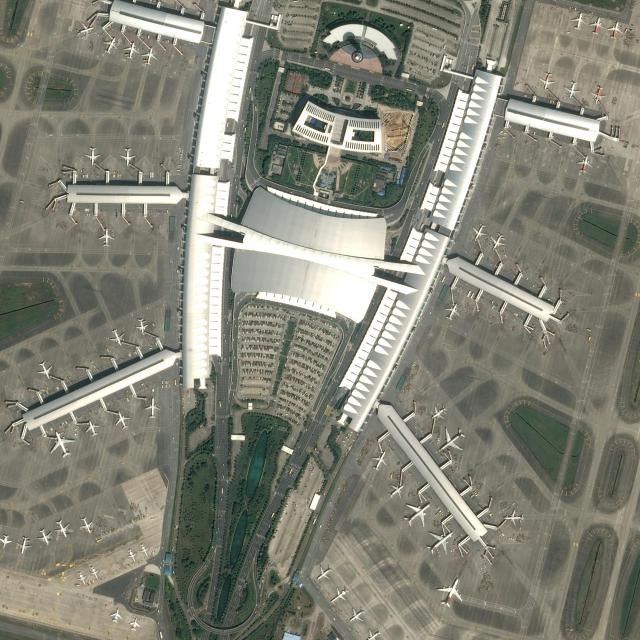1: (365, 628, 382, 640)
aircraft: (436, 576, 463, 608), (438, 427, 466, 453), (49, 430, 75, 458), (426, 530, 454, 554), (402, 503, 430, 527), (144, 396, 160, 418), (504, 510, 524, 526), (54, 518, 70, 538), (98, 226, 114, 246), (489, 232, 506, 250), (563, 80, 580, 98), (538, 72, 555, 90), (140, 46, 157, 64), (590, 85, 606, 104), (570, 10, 586, 29), (589, 16, 605, 35), (607, 20, 623, 39), (329, 587, 348, 603), (16, 534, 31, 554), (429, 404, 447, 420), (444, 302, 460, 320), (576, 155, 592, 173), (348, 607, 366, 623), (36, 361, 52, 379), (119, 147, 135, 165), (84, 146, 100, 164), (123, 41, 139, 59), (472, 222, 487, 241), (75, 22, 94, 37), (372, 450, 386, 470), (115, 410, 129, 430), (314, 565, 332, 580), (102, 36, 117, 54), (36, 529, 52, 545), (79, 516, 93, 534), (387, 483, 403, 498), (85, 420, 100, 436), (109, 328, 123, 345), (135, 318, 149, 334), (110, 608, 122, 624), (0, 534, 12, 548), (129, 617, 140, 631), (139, 542, 149, 556), (127, 548, 136, 562), (77, 572, 86, 586), (90, 566, 98, 579)
